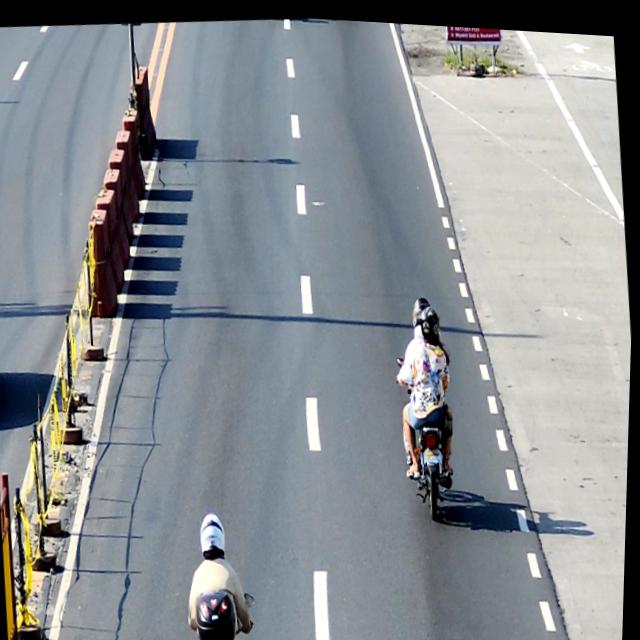License-Plate: (425, 439, 446, 460)
Motorcycle: (393, 345, 465, 521), (189, 578, 264, 640)
